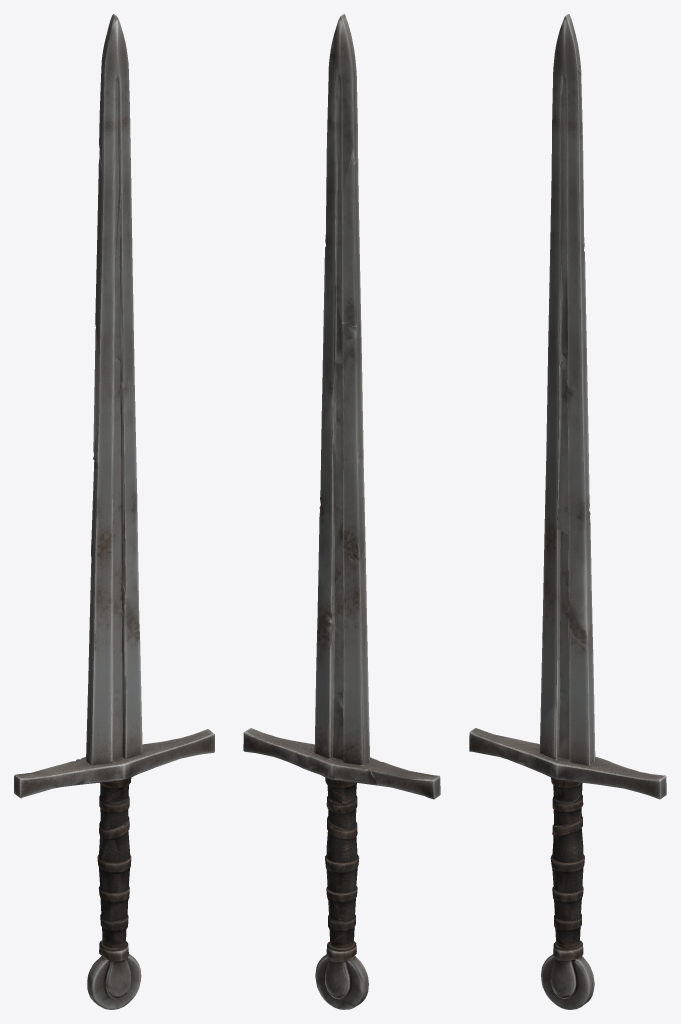
Rendered from wpn_greatsword_iron.glb.
3 renders of one model, left to right at view 1: azimuth 30°, elevation 25°; view 2: azimuth 150°, elevation 25°; view 3: azimuth 330°, elevation 25°, orthographic.
Visible parts, largest first — view 1: wpn_greatsword_iron; view 2: wpn_greatsword_iron; view 3: wpn_greatsword_iron.
Part boxes in pixels (box(x1,y1,x2,y2)): wpn_greatsword_iron: box(14, 14, 214, 1009); wpn_greatsword_iron: box(243, 14, 440, 1009); wpn_greatsword_iron: box(469, 14, 666, 1009).
Size of the model in its own units: 0.2809 by 1.38 by 0.0517.
Materials: 1 (1 with a texture image).
